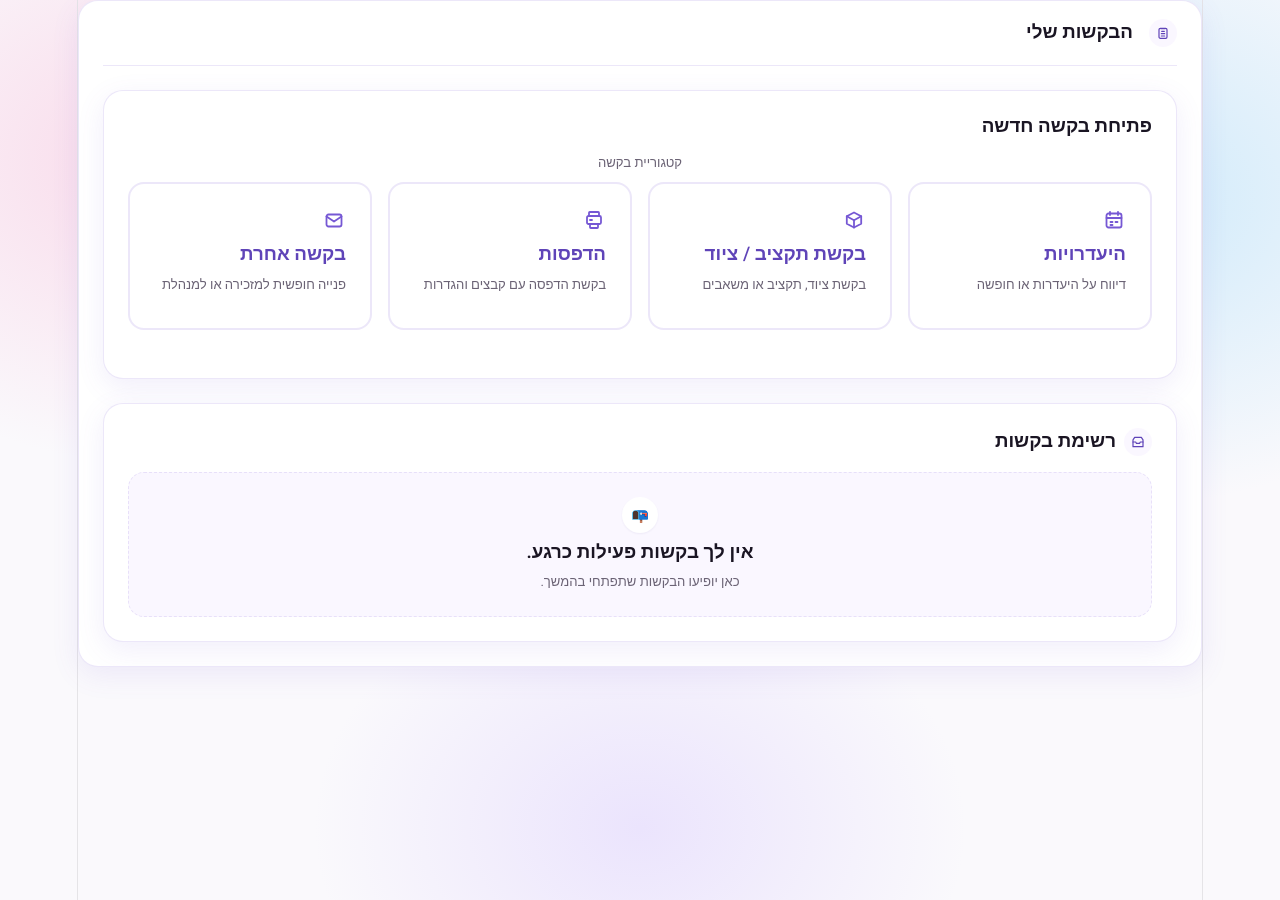
Test case: TeacherRequestsSection modal create flow › allows only one create modal at a time
Step 1. Click the radio button labelled "היעדרויות דיווח על היעדרות או חופשה" → click(1030, 256), box x1=908 y1=182 x2=1152 y2=330
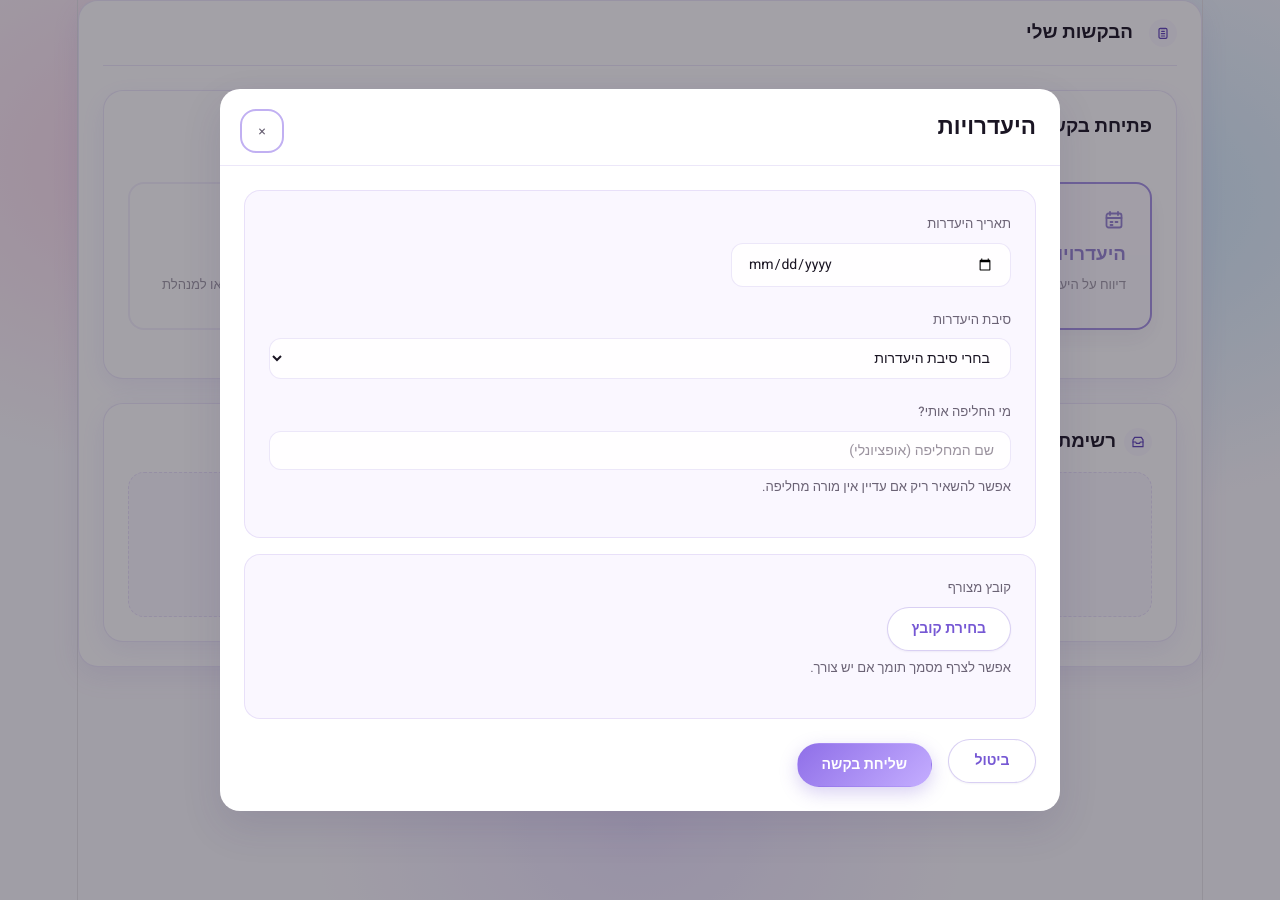
Check: the number of dialogs is 1, box x1=220 y1=89 x2=1060 y2=811
Check: the radio button labelled "בקשה אחרת פנייה חופשית למזכירה או למנהלת" is disabled, box x1=128 y1=182 x2=372 y2=330
